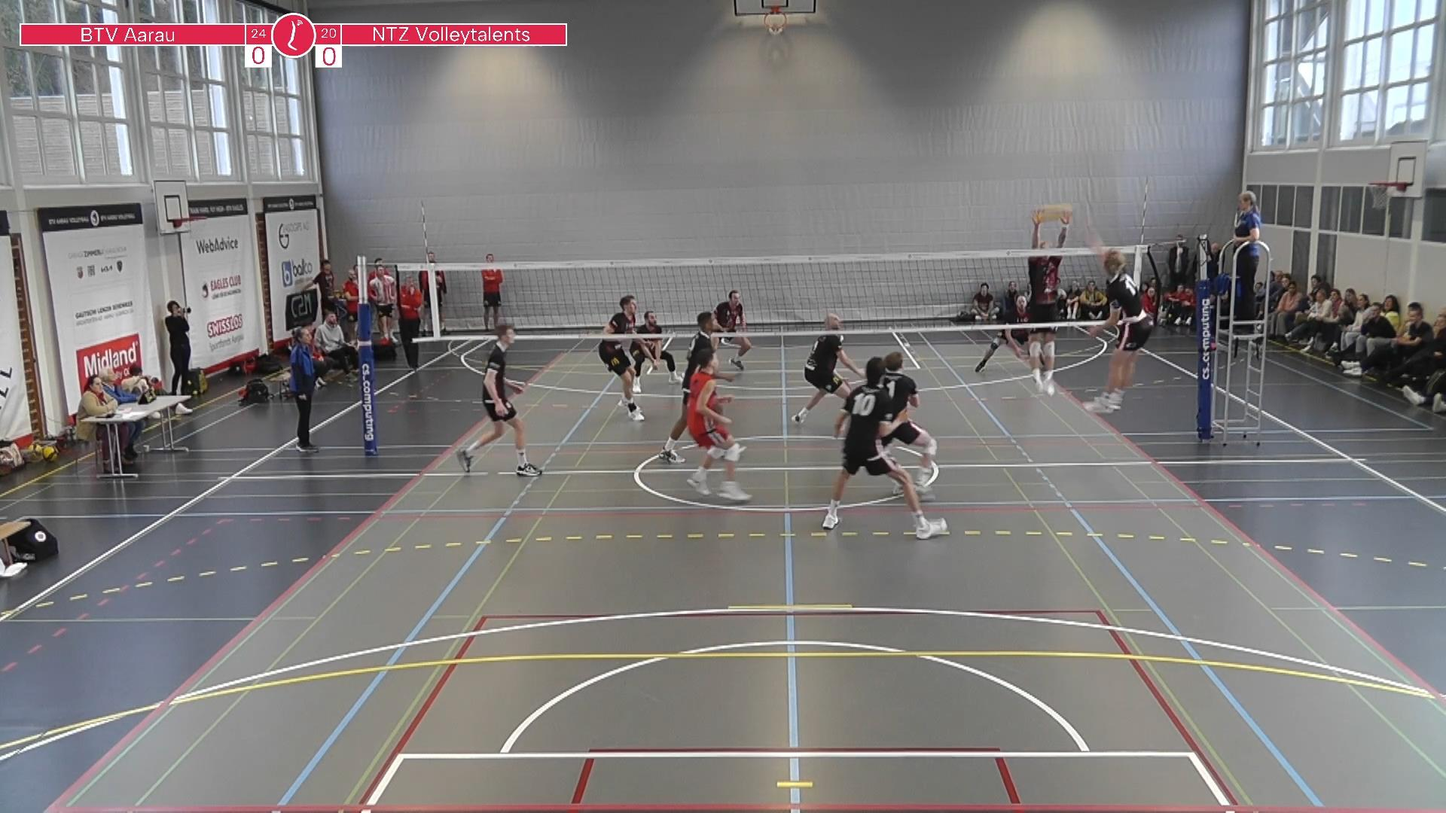Attack: (1071, 219, 1165, 419)
Block: (1014, 205, 1076, 407)
Player: (822, 357, 947, 538), (456, 324, 541, 477), (688, 349, 750, 502), (659, 311, 717, 461), (881, 352, 937, 493), (792, 313, 862, 423), (975, 295, 1029, 373), (630, 310, 682, 383), (599, 339, 643, 421), (715, 290, 751, 370)
